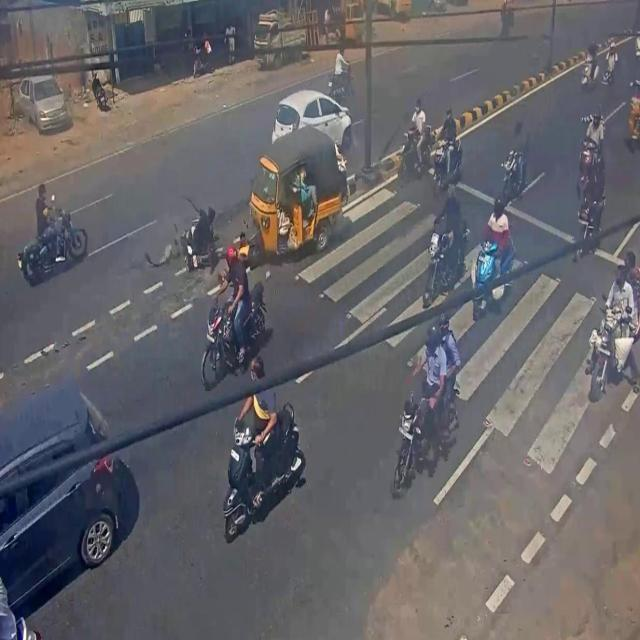accident: (142, 195, 222, 278)
